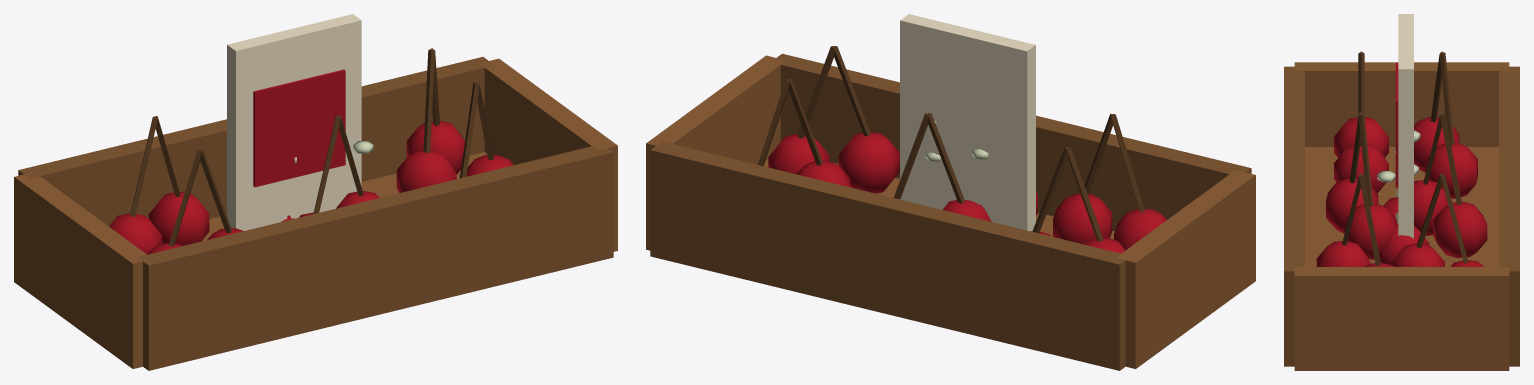
The model's file is Fruit_Cherry.fbx.
3 renders of one model, left to right at view 1: azimuth 30°, elevation 25°; view 2: azimuth 150°, elevation 25°; view 3: azimuth 270°, elevation 25°, orthographic. The views are drawn at different scales.
Parts seen in each view (by area): view 1: Fruit_Cherry__Stack, Fruit_Cherry__Seed; view 2: Fruit_Cherry__Stack, Fruit_Cherry__Seed; view 3: Fruit_Cherry__Stack, Fruit_Cherry__Seed, Fruit_Cherry, Fruit_Cherry__Rotten.
Part boxes in pixels (<box>): Fruit_Cherry__Stack: <box>14,48,617,370</box>; Fruit_Cherry__Seed: <box>227,14,361,230</box>; Fruit_Cherry__Stack: <box>646,46,1255,370</box>; Fruit_Cherry__Seed: <box>900,14,1035,231</box>; Fruit_Cherry__Stack: <box>1284,51,1519,370</box>; Fruit_Cherry__Seed: <box>1395,14,1413,238</box>; Fruit_Cherry: <box>1379,197,1429,264</box>; Fruit_Cherry__Rotten: <box>1377,130,1420,182</box>.
Bounding box in the file's own units: 0.1928 × 0.09 × 0.0898.
